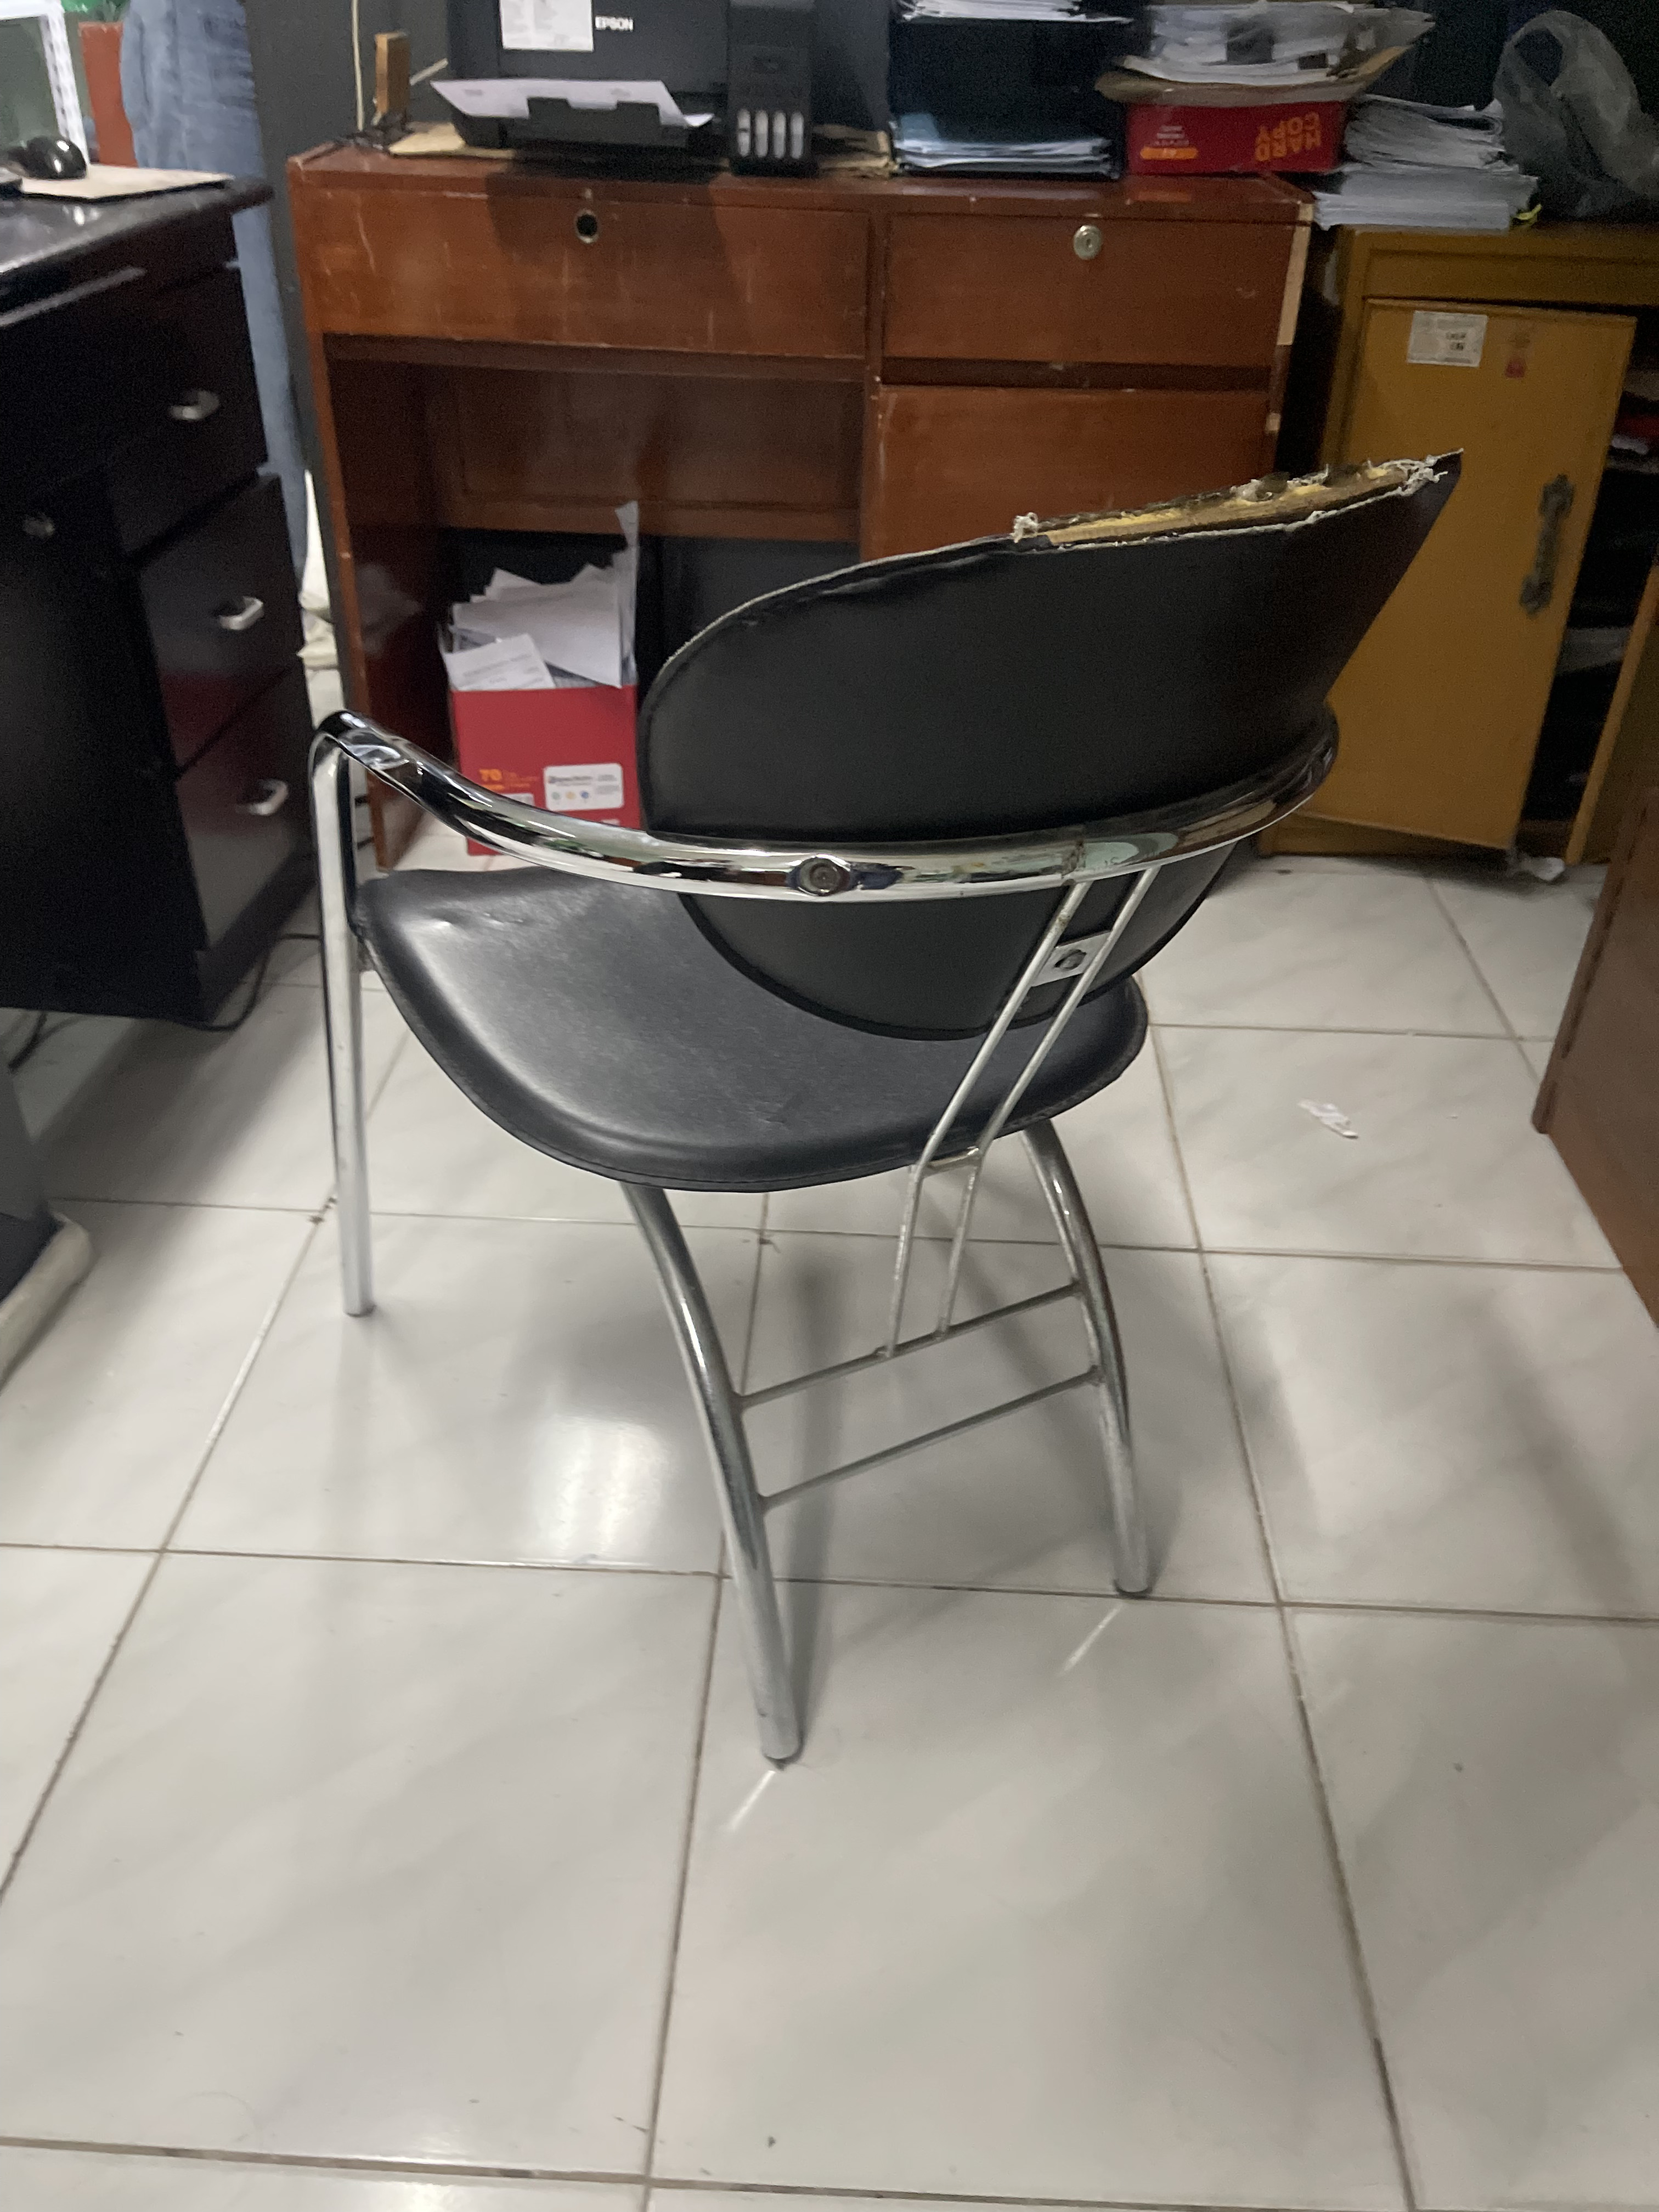chair1: (295, 455, 1473, 1771)
